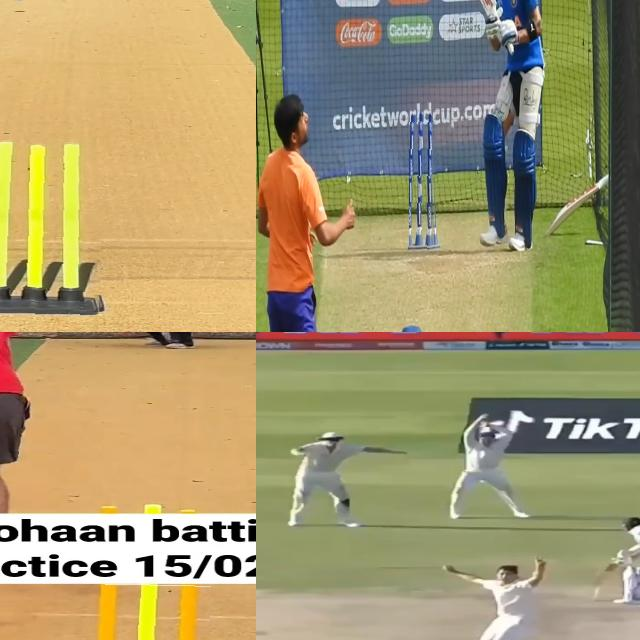Stumps: (0, 139, 104, 317), (82, 583, 211, 640), (409, 108, 439, 250)
